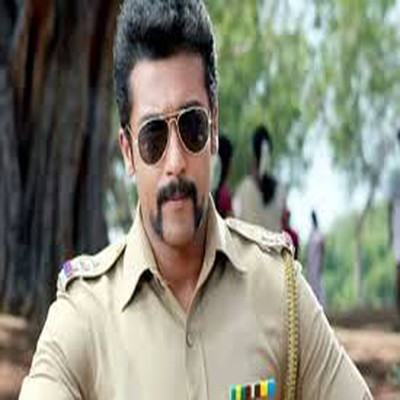eywear: (120, 104, 247, 169)
